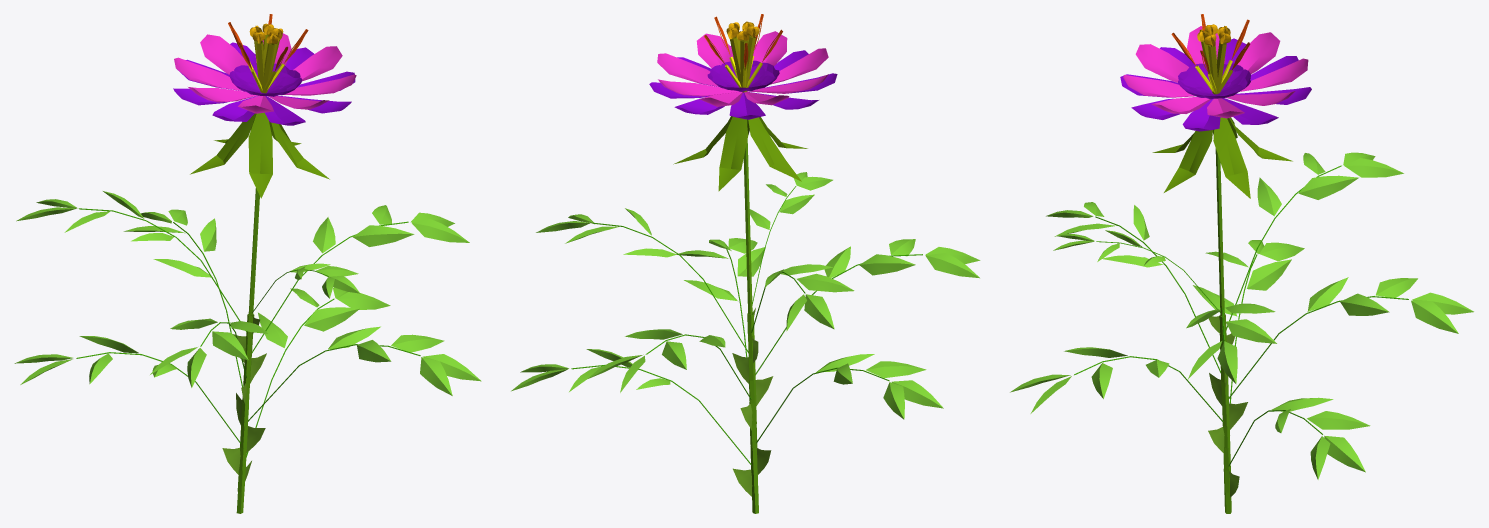
Rendered from Low_poly_flower.obj.
3 renders of one model, left to right at view 1: azimuth 30°, elevation 25°; view 2: azimuth 150°, elevation 25°; view 3: azimuth 270°, elevation 25°, orthographic. The views are drawn at different scales.
Parts seen in each view (by area): view 1: flower_t.1; view 2: flower_t.1; view 3: flower_t.1.
Boxes of the visible parts, left/top/right/bottom form: flower_t.1: left=14, top=14, right=481, bottom=513; flower_t.1: left=511, top=14, right=980, bottom=513; flower_t.1: left=1010, top=14, right=1473, bottom=513.
Size of the model in its own units: 14.42 by 15.69 by 13.42.
